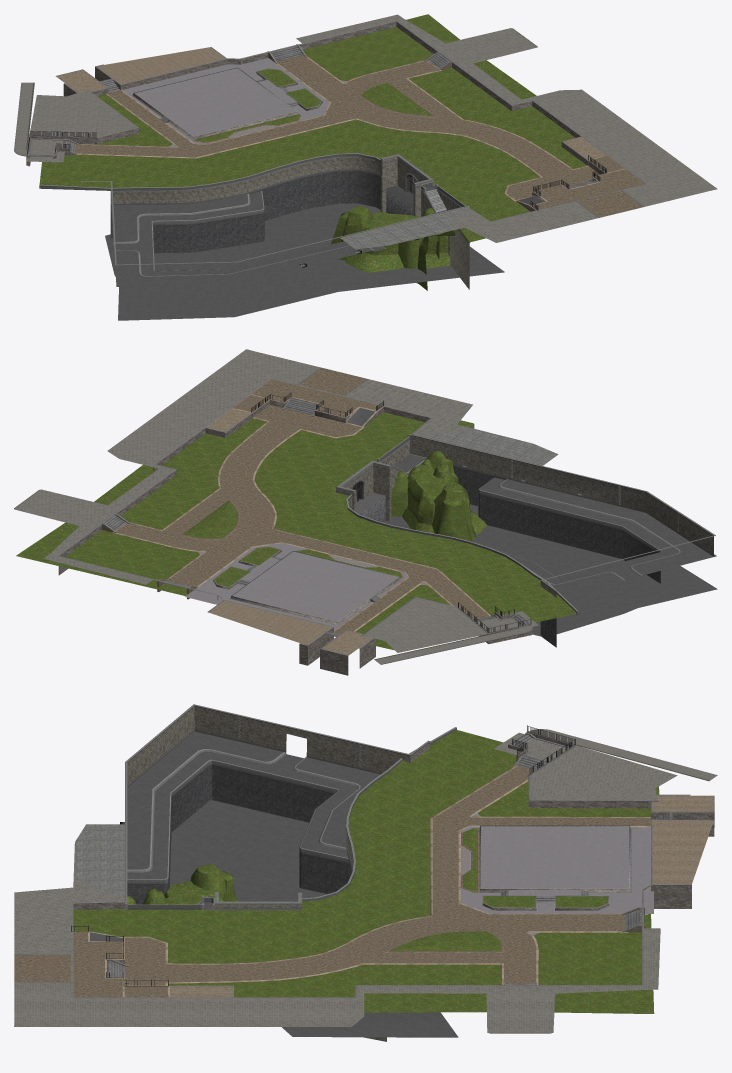
The model's file is t1_g03_1_replace01_park.glb.
3 views of the same model, one above another, from view 1: azimuth 30°, elevation 25°; view 2: azimuth 150°, elevation 25°; view 3: azimuth 270°, elevation 25° (orthographic). The views are drawn at different scales.
Visible parts, largest first — view 1: um_t1_g03_1_replace01_park_model_t1_g03_1_replace01_park_mod; view 2: um_t1_g03_1_replace01_park_model_t1_g03_1_replace01_park_mod; view 3: um_t1_g03_1_replace01_park_model_t1_g03_1_replace01_park_mod.
Boxes of the visible parts, box(x1,y1,x2,y2) form: um_t1_g03_1_replace01_park_model_t1_g03_1_replace01_park_mod: box(14, 14, 717, 320); um_t1_g03_1_replace01_park_model_t1_g03_1_replace01_park_mod: box(14, 349, 717, 675); um_t1_g03_1_replace01_park_model_t1_g03_1_replace01_park_mod: box(14, 704, 717, 1041).
Bounding box in the file's own units: 139 × 18.39 × 125.
Materials: 25 (24 with a texture image).
